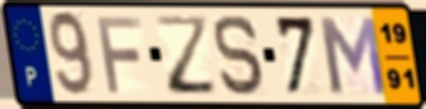7: (274, 14, 318, 97)
9: (48, 7, 97, 100)
F: (93, 14, 144, 96)
M: (314, 14, 391, 98)
S: (211, 12, 269, 98)
Z: (152, 13, 220, 97)
